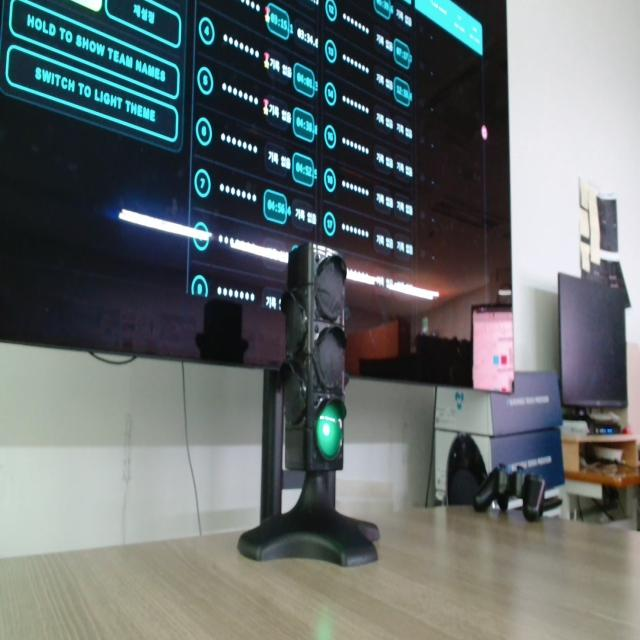green_light: (317, 401, 345, 460)
